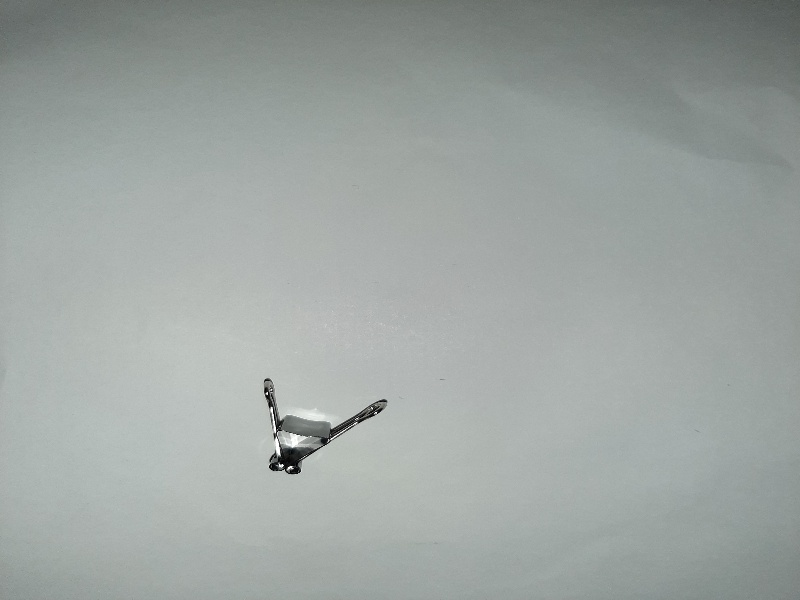Big Paperclip: (250, 368, 402, 482)
